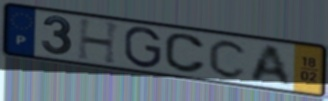3: (40, 15, 74, 57)
A: (248, 43, 294, 88)
C: (163, 32, 209, 75), (207, 38, 250, 80)
G: (122, 26, 163, 70)
H: (76, 17, 124, 66)
